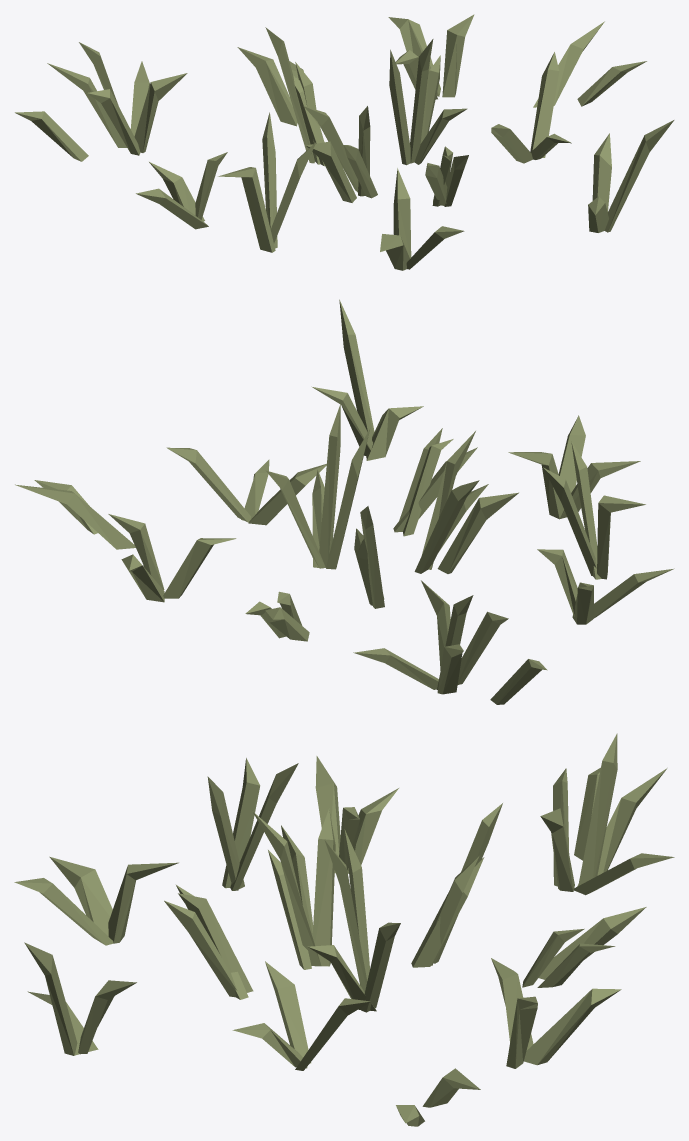
Rendered from SM_Env_Grass_01.fbx.
3 views of the same model, one above another, from view 1: azimuth 30°, elevation 25°; view 2: azimuth 150°, elevation 25°; view 3: azimuth 270°, elevation 25° (orthographic). The views are drawn at different scales.
Visible parts, largest first — view 1: SM_Env_Grass_01; view 2: SM_Env_Grass_01; view 3: SM_Env_Grass_01.
Part boxes in pixels (x1=…): SM_Env_Grass_01: x1=15, y1=14, x2=674, y2=270; SM_Env_Grass_01: x1=15, y1=299, x2=674, y2=704; SM_Env_Grass_01: x1=14, y1=733, x2=674, y2=1126.
Size of the model in its own units: 3.42 by 0.8016 by 2.84.
